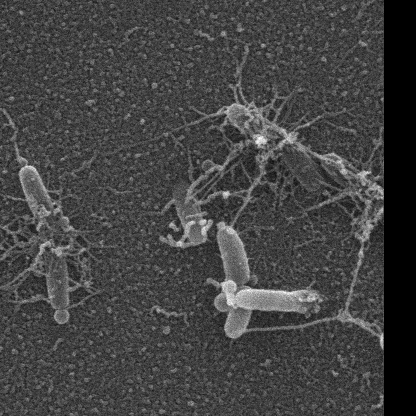cell2cell: (232, 151, 271, 231)
cell2surface: (138, 111, 221, 153), (248, 315, 371, 334), (0, 262, 41, 294), (7, 115, 27, 170), (235, 53, 252, 108)
regular: (269, 134, 326, 194), (19, 164, 62, 233), (216, 226, 255, 286), (44, 245, 74, 314), (174, 186, 208, 244), (224, 103, 273, 142), (238, 292, 312, 311), (223, 309, 254, 340)
